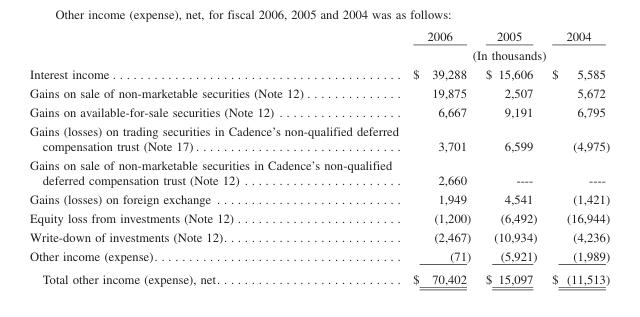table: (29, 29, 609, 285)
table column: (29, 29, 405, 285), (405, 29, 477, 285), (477, 29, 543, 285), (543, 29, 609, 285)
table column header: (29, 29, 609, 64)
table row: (29, 121, 609, 155), (29, 155, 609, 189), (29, 246, 609, 267), (29, 45, 609, 64), (29, 64, 609, 83), (29, 83, 609, 102), (29, 102, 609, 121), (29, 189, 609, 208), (29, 208, 609, 227), (29, 227, 609, 246), (29, 267, 609, 285), (29, 29, 609, 45)
table spanning cell: (405, 45, 609, 64)
